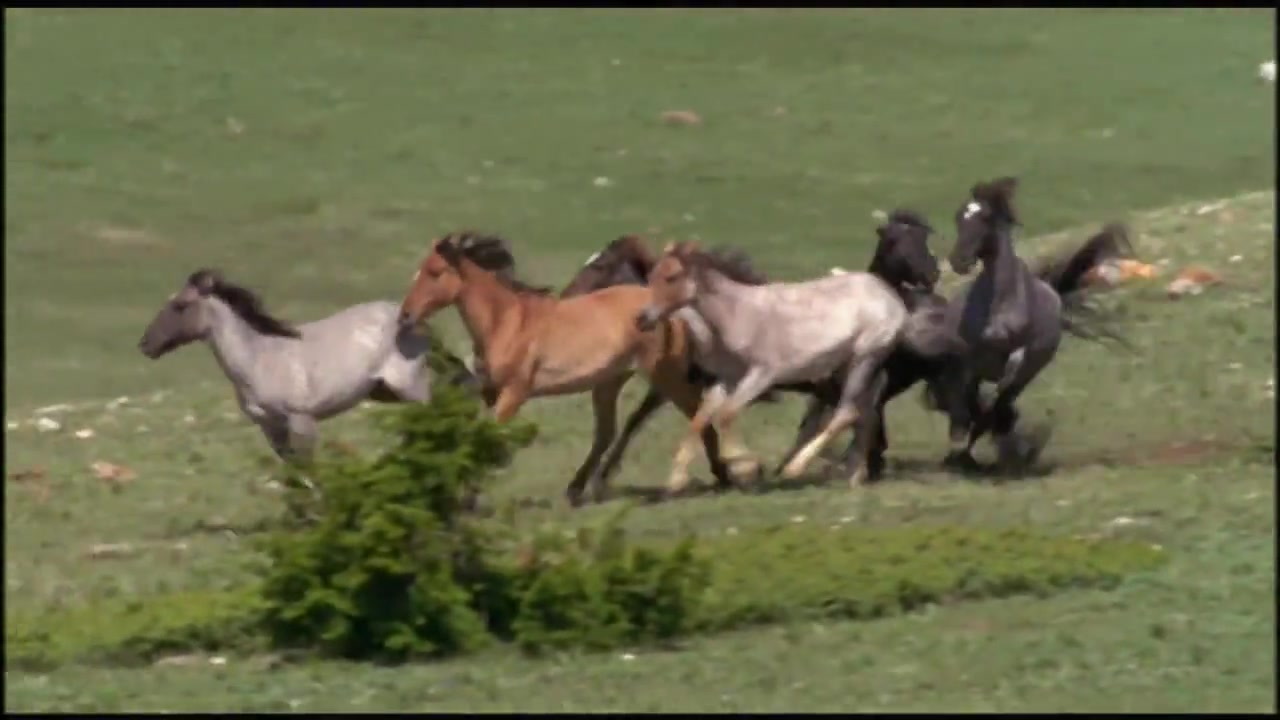horse: (636, 239, 916, 498)
